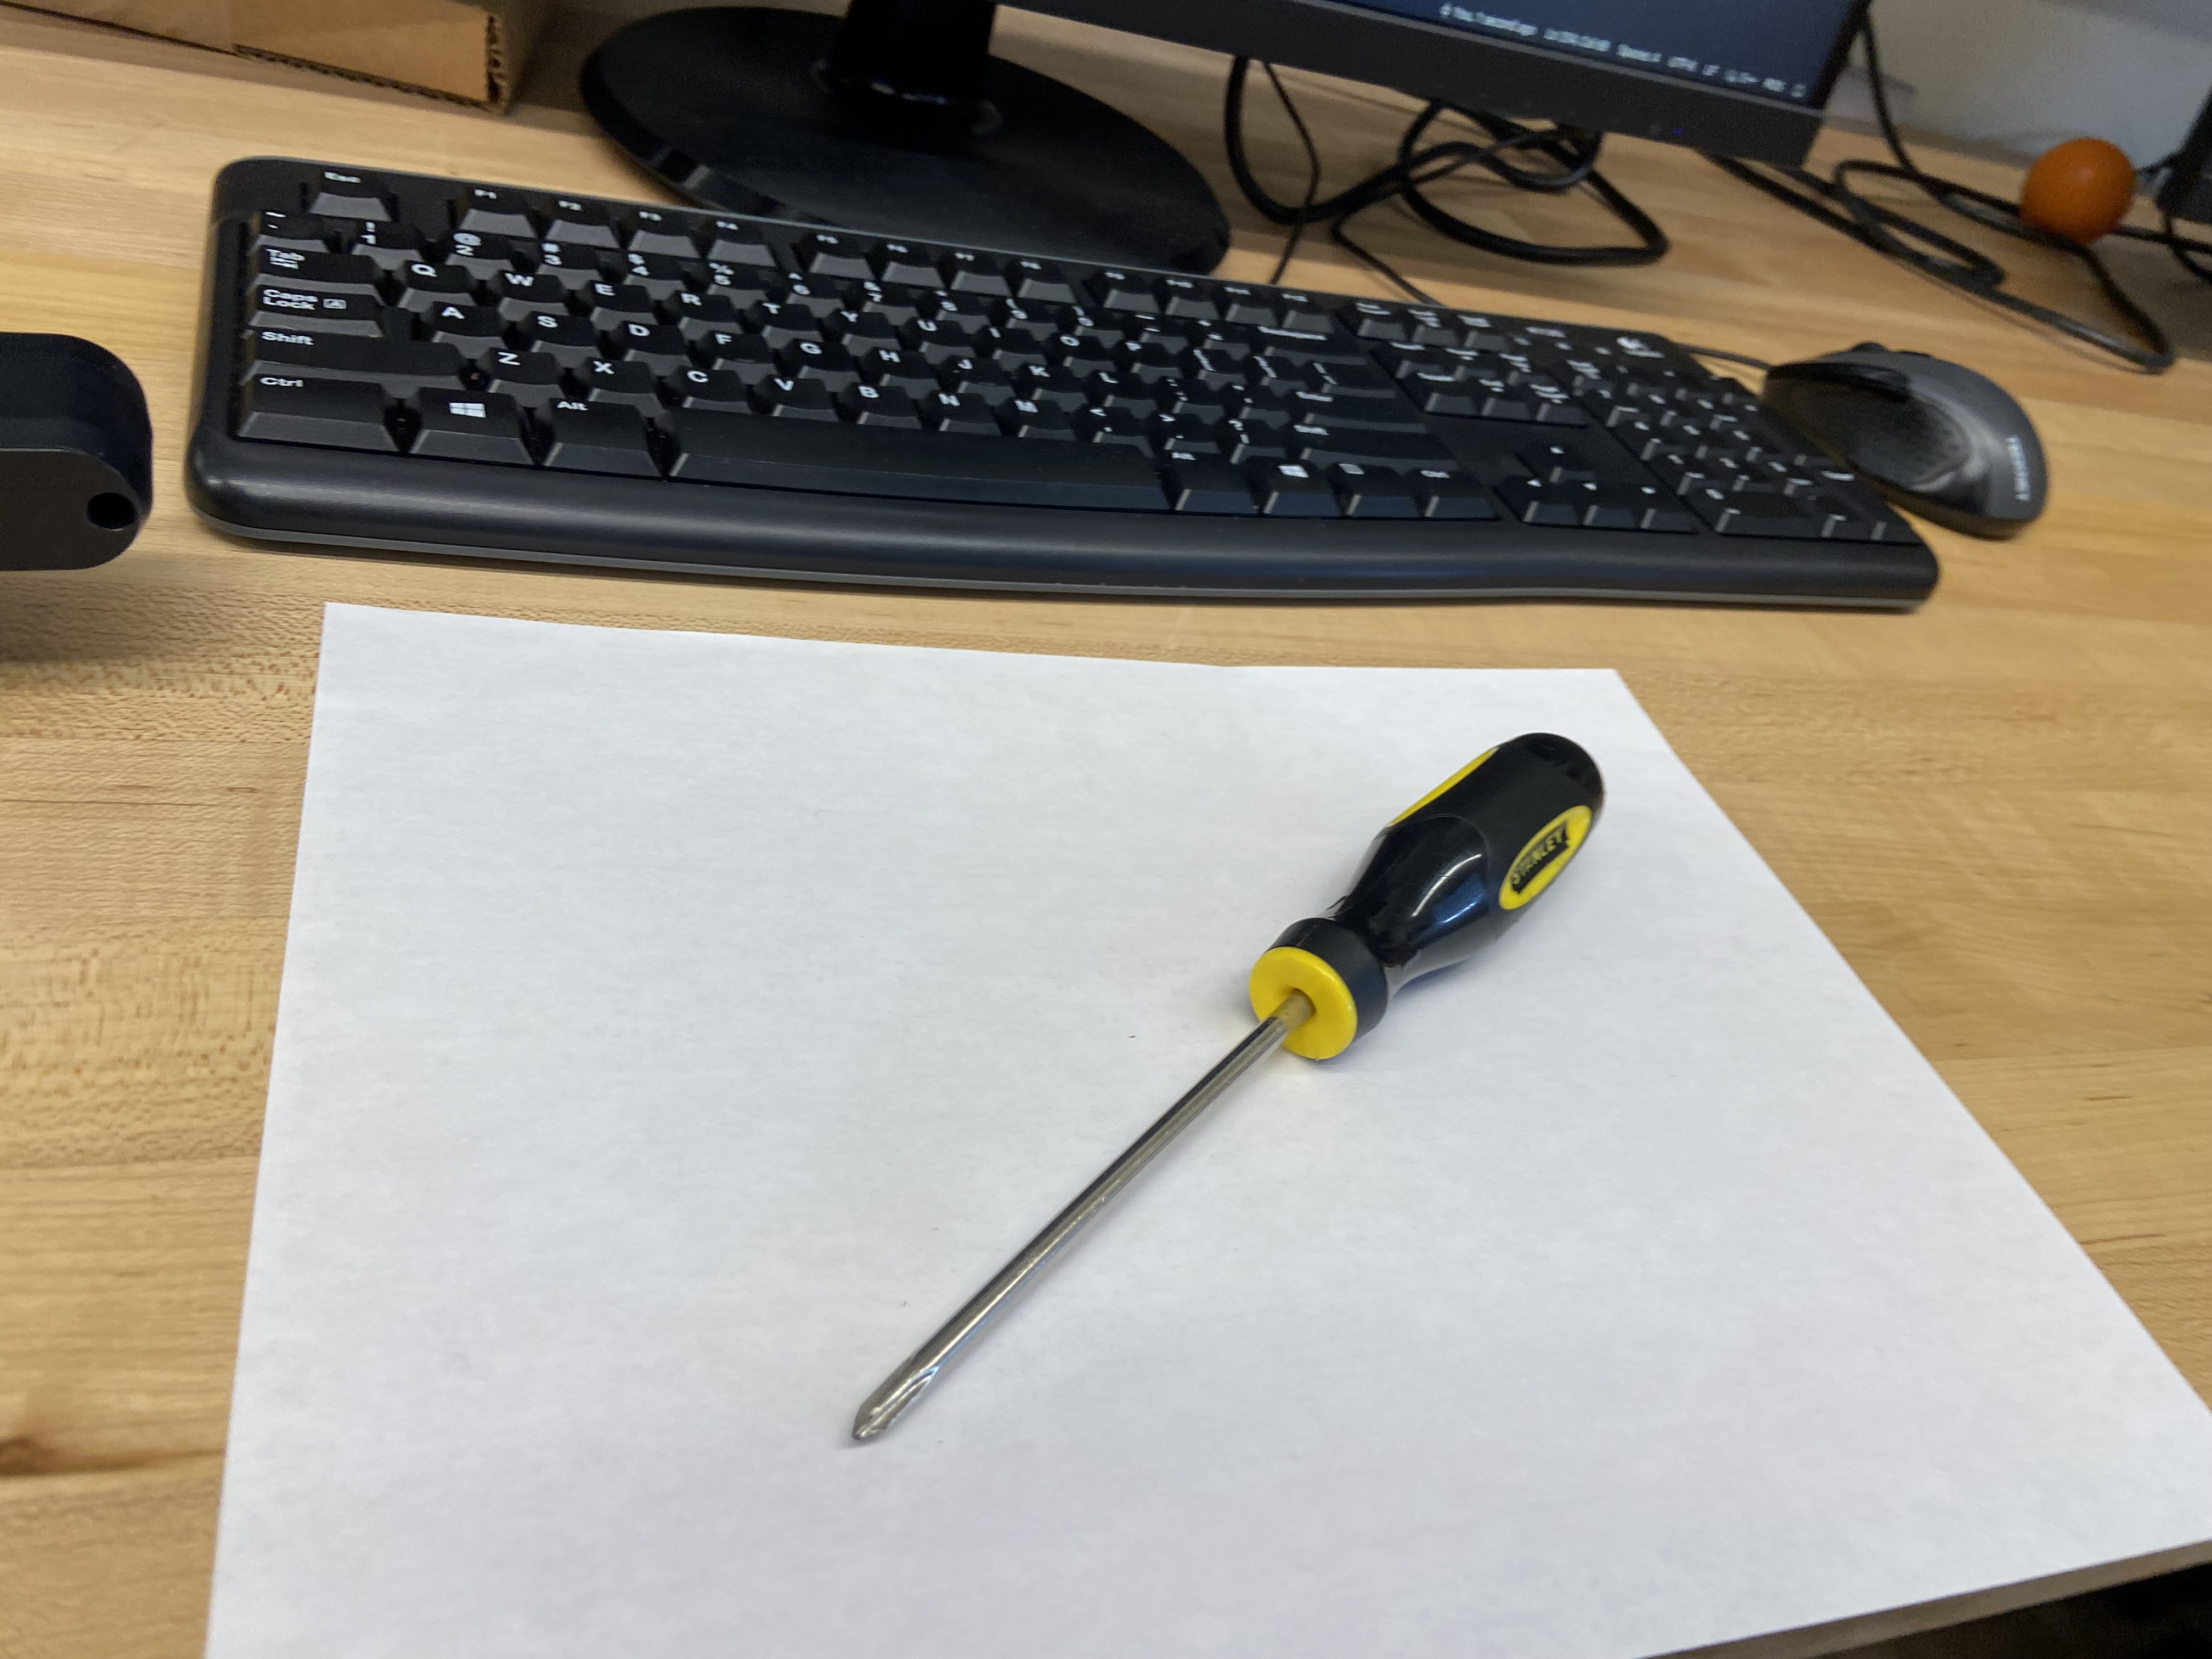screwdriver: (850, 735, 1608, 1448)
